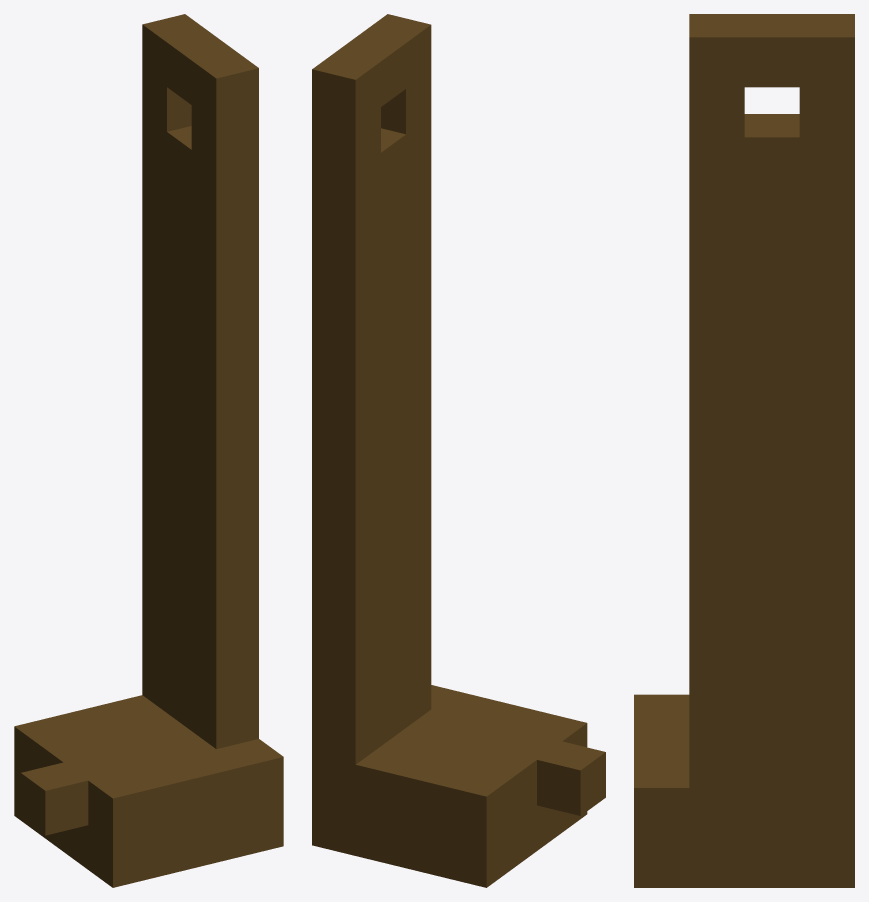
The model's file is Cauldronx16-1.obj.
The picture shows the model from 3 angles, left to right: view 1: azimuth 30°, elevation 25°; view 2: azimuth 150°, elevation 25°; view 3: azimuth 270°, elevation 25°; orthographic projection. The views are drawn at different scales.
Size of the model in its own units: 0.5 by 1.7 by 0.4.
1 material, 1 textured.
